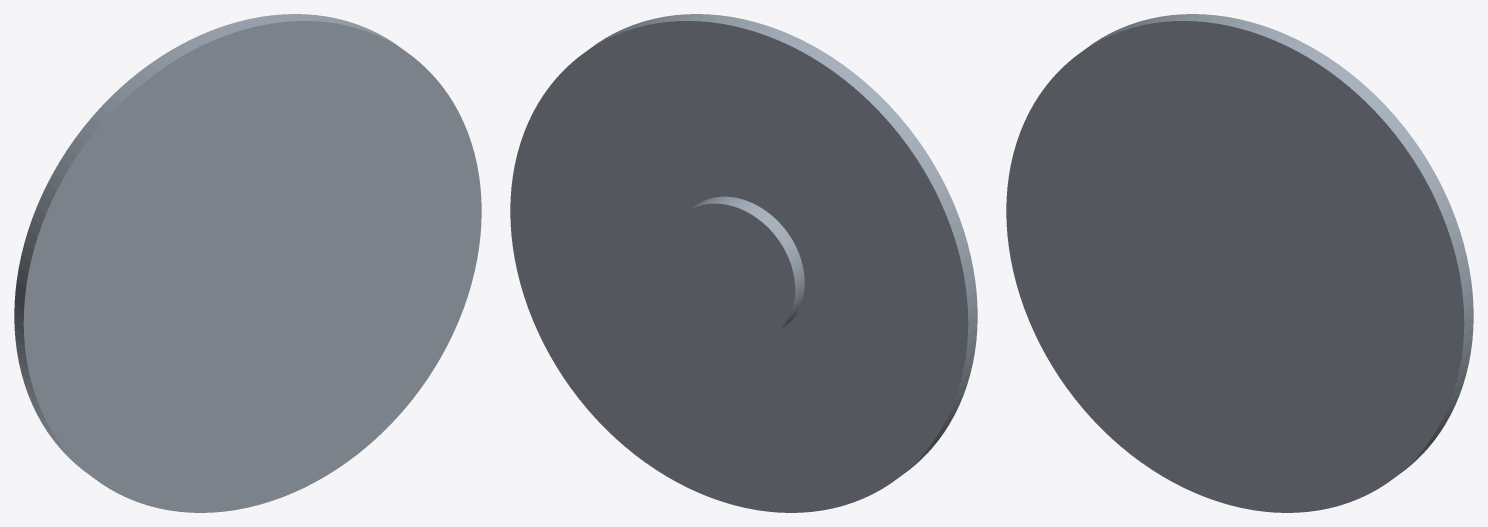
Rendered from input.glb.
The picture shows the model from 3 angles, left to right: view 1: azimuth 30°, elevation 25°; view 2: azimuth 150°, elevation 25°; view 3: azimuth 330°, elevation 25°; orthographic projection.
Parts seen in each view (by area): view 1: input.tmp.stl; view 2: input.tmp.stl; view 3: input.tmp.stl.
Part boxes in pixels (x1,y1,x2,y2): input.tmp.stl: (14, 14, 481, 512); input.tmp.stl: (510, 14, 977, 512); input.tmp.stl: (1006, 14, 1473, 512).
Size of the model in its own units: 140 by 140 by 10.
